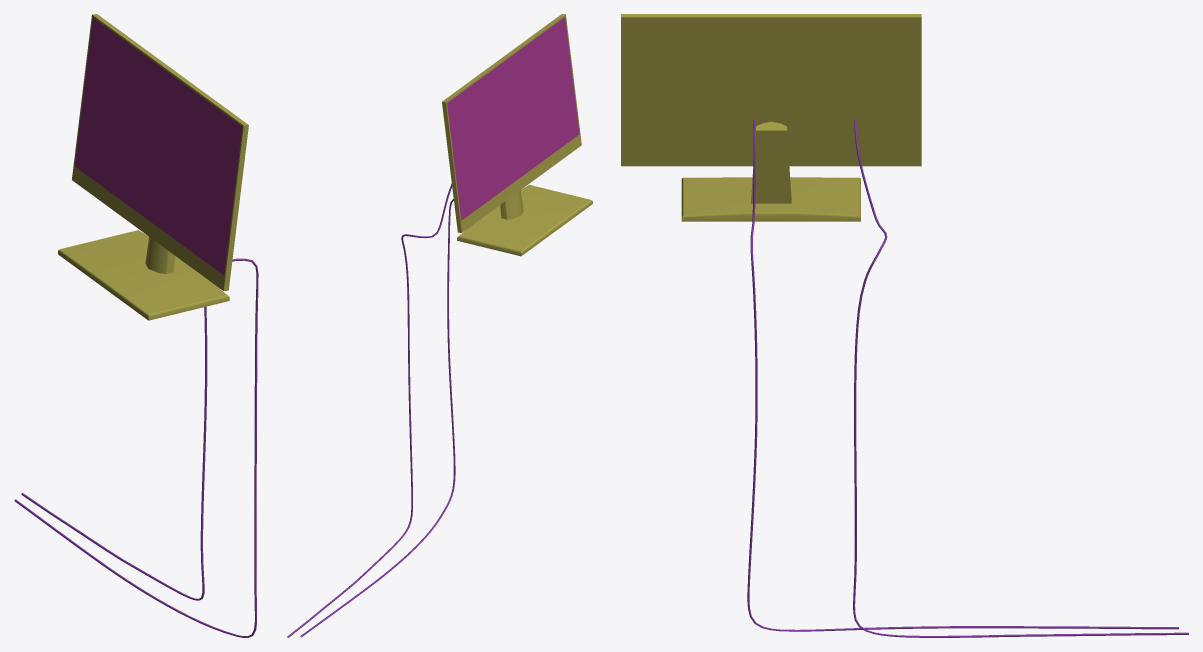
File: screen.fbx
The picture shows the model from 3 angles, left to right: view 1: azimuth 30°, elevation 25°; view 2: azimuth 150°, elevation 25°; view 3: azimuth 270°, elevation 25°; orthographic projection. The views are drawn at different scales.
Visible parts, largest first — view 1: screen; view 2: screen; view 3: screen.
Boxes of the visible parts, box(x1,y1,x2,y2) form: screen: box(14, 14, 258, 637); screen: box(287, 14, 592, 637); screen: box(621, 14, 1188, 637).
Size of the model in its own units: 0.2947 by 1.15 by 1.
